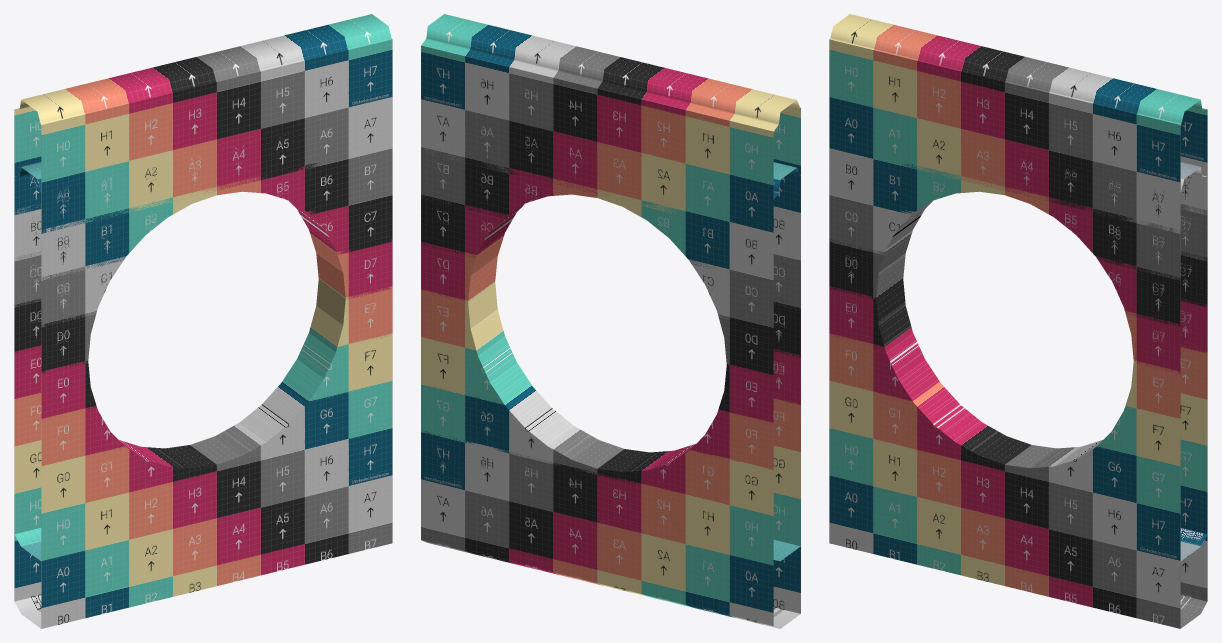
Rendered from panelWindowRound290_manMorph4.glb.
3 views of the same model, side by side, from view 1: azimuth 30°, elevation 25°; view 2: azimuth 150°, elevation 25°; view 3: azimuth 330°, elevation 25° (orthographic).
Visible parts, largest first — view 1: panelWindowRound290.002, panelWindowRound290.001; view 2: panelWindowRound290.002, panelWindowRound290.001; view 3: panelWindowRound290.002, panelWindowRound290.001.
Part boxes in pixels (x1=…): panelWindowRound290.002: x1=14, y1=14, x2=392, y2=628; panelWindowRound290.001: x1=14, y1=107, x2=392, y2=560; panelWindowRound290.002: x1=421, y1=14, x2=800, y2=628; panelWindowRound290.001: x1=421, y1=118, x2=800, y2=561; panelWindowRound290.002: x1=829, y1=14, x2=1207, y2=628; panelWindowRound290.001: x1=829, y1=107, x2=1207, y2=560.
Bounding box in the file's own units: 0.3 × 0.42 × 0.04.
1 material, 1 textured.
